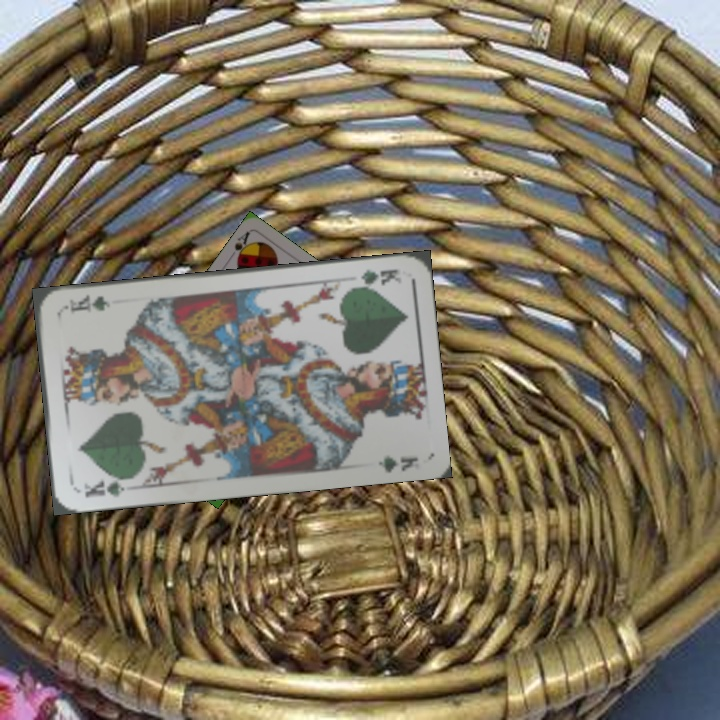GK: (348, 265, 405, 292), (79, 473, 134, 500)
SA: (230, 228, 255, 267)
